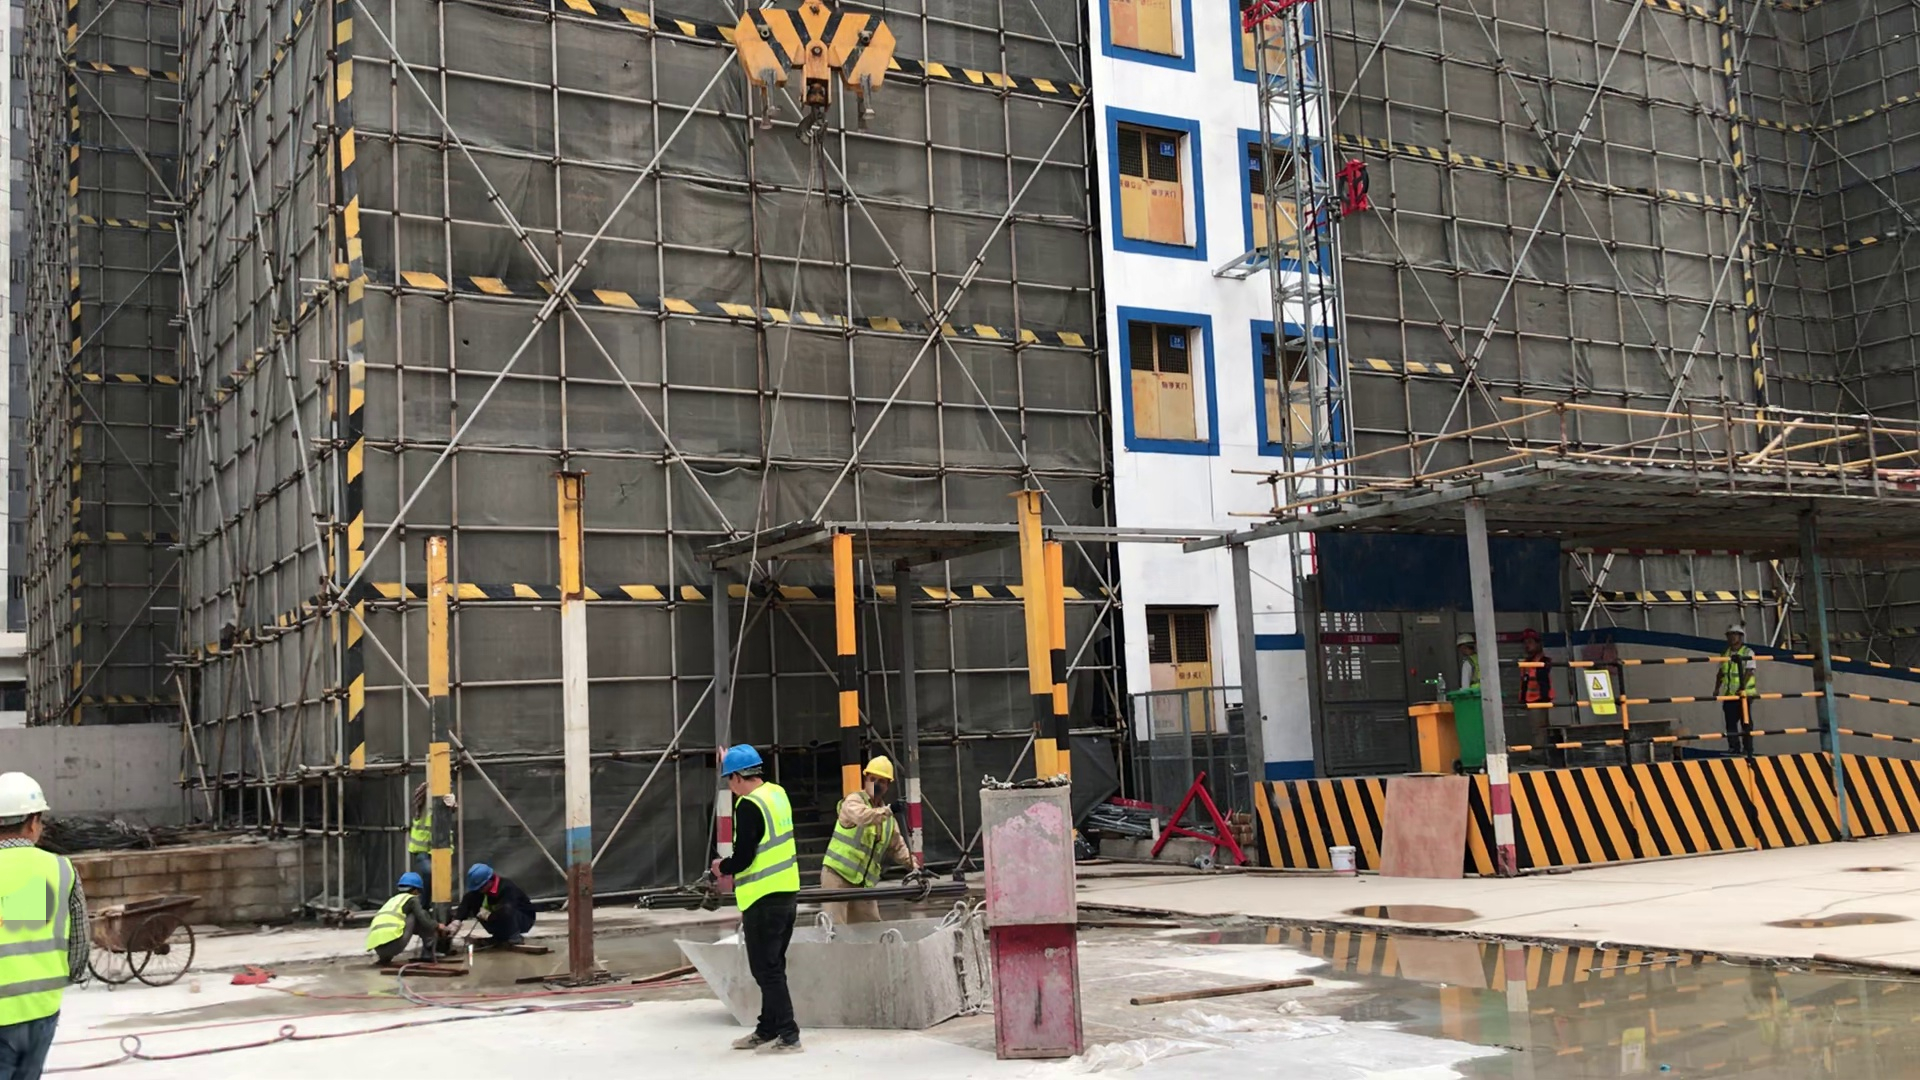helmet: (710, 740, 793, 786), (1, 770, 58, 829), (441, 850, 498, 892), (859, 745, 901, 797), (393, 864, 430, 889), (1516, 624, 1546, 644), (1717, 618, 1750, 636), (1454, 633, 1478, 648)
person: (692, 723, 821, 1068), (1, 749, 112, 1080), (819, 734, 921, 960), (454, 843, 543, 981), (1498, 616, 1577, 762), (370, 850, 451, 987), (1712, 612, 1773, 756), (401, 757, 461, 893), (1439, 615, 1490, 693)
vest: (3, 831, 94, 1053), (722, 777, 805, 943), (826, 784, 901, 911), (406, 785, 459, 868), (370, 885, 421, 957), (1715, 644, 1761, 701), (1516, 651, 1559, 707), (471, 889, 518, 935), (1458, 651, 1490, 689)
